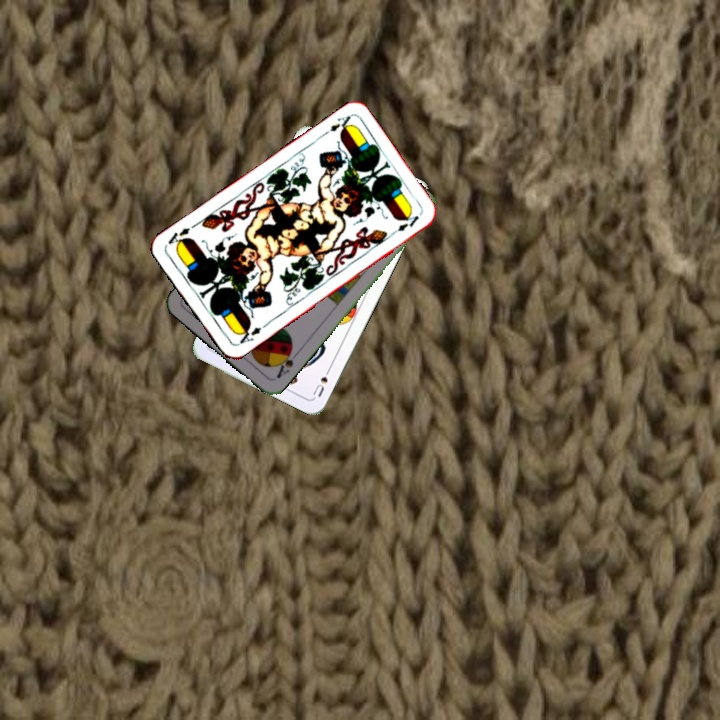EA: (318, 111, 355, 139), (234, 321, 264, 348)
SA: (272, 343, 302, 381)
SU: (309, 362, 334, 400)
